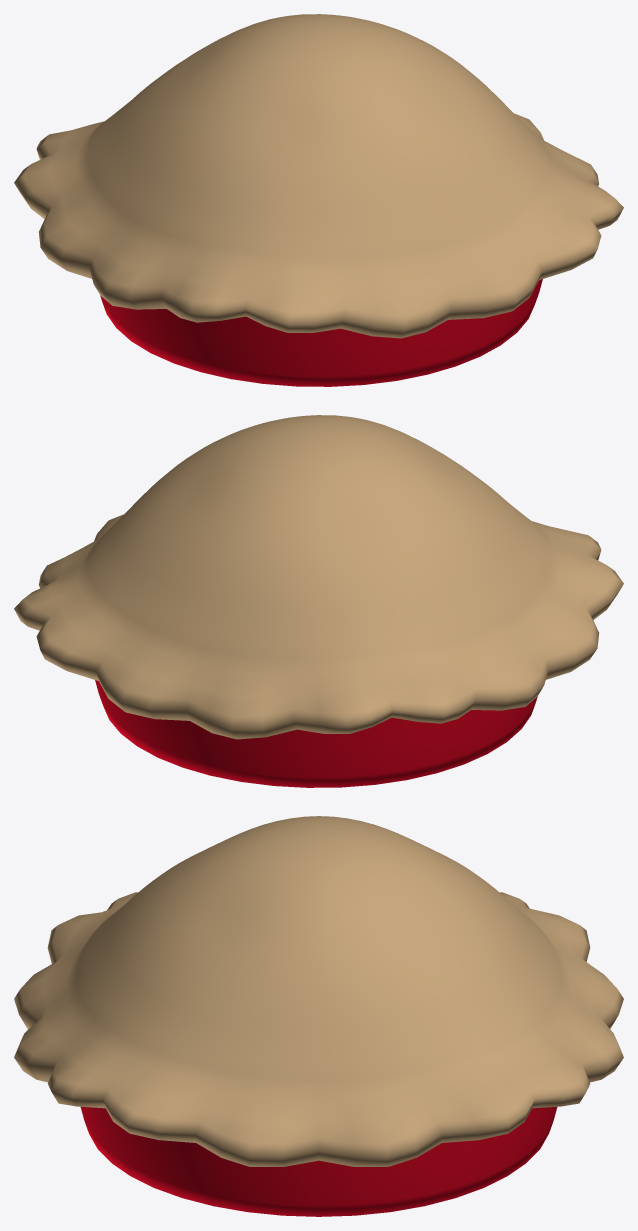
File: pie.fbx
3 views of the same model, one above another, from view 1: azimuth 30°, elevation 25°; view 2: azimuth 150°, elevation 25°; view 3: azimuth 270°, elevation 25° (orthographic). The views are drawn at different scales.
Visible parts, largest first — view 1: group2; view 2: group2; view 3: group2.
Boxes of the visible parts, <box> form: group2: <box>14,14,623,386</box>; group2: <box>14,415,623,787</box>; group2: <box>14,816,623,1216</box>.
Size of the model in its own units: 96.24 by 49.67 by 96.24.
